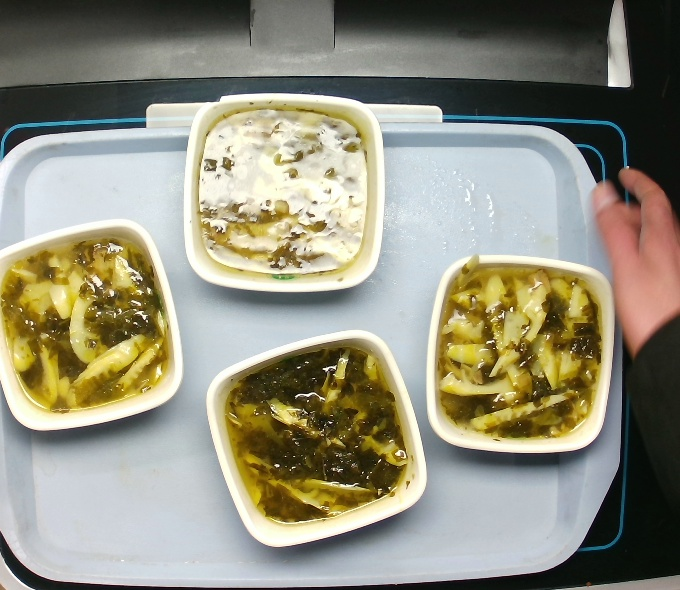wcq-DongSunTang: (217, 336, 417, 532), (429, 247, 610, 448), (188, 97, 378, 285), (1, 229, 178, 422)
